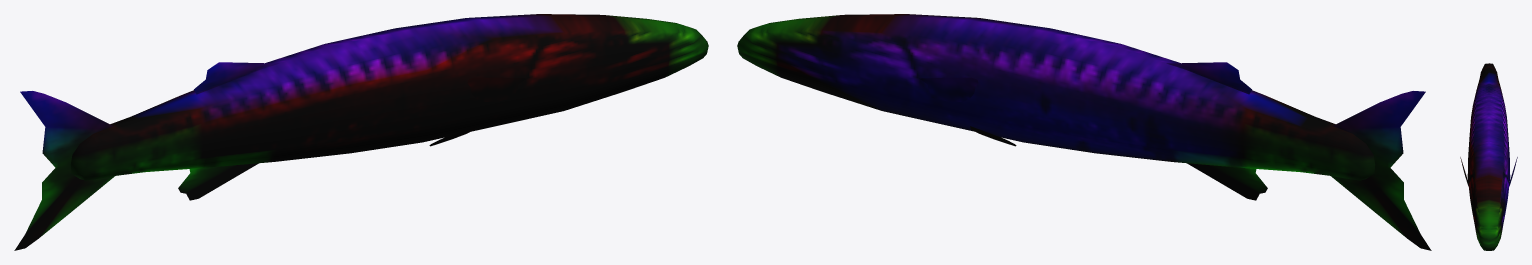
Rendered from great_barracuda.glb.
3 views of the same model, side by side, from view 1: azimuth 30°, elevation 25°; view 2: azimuth 150°, elevation 25°; view 3: azimuth 270°, elevation 25° (orthographic). The views are drawn at different scales.
Visible parts, largest first — view 1: GreatBarracuda; view 2: GreatBarracuda; view 3: GreatBarracuda.
Boxes of the visible parts, bbox=[...] form: GreatBarracuda: bbox=[14, 14, 708, 250]; GreatBarracuda: bbox=[737, 14, 1431, 250]; GreatBarracuda: bbox=[1460, 63, 1517, 250].
Size of the model in its own units: 1 by 0.2179 by 0.14.
1 material, 1 textured.
